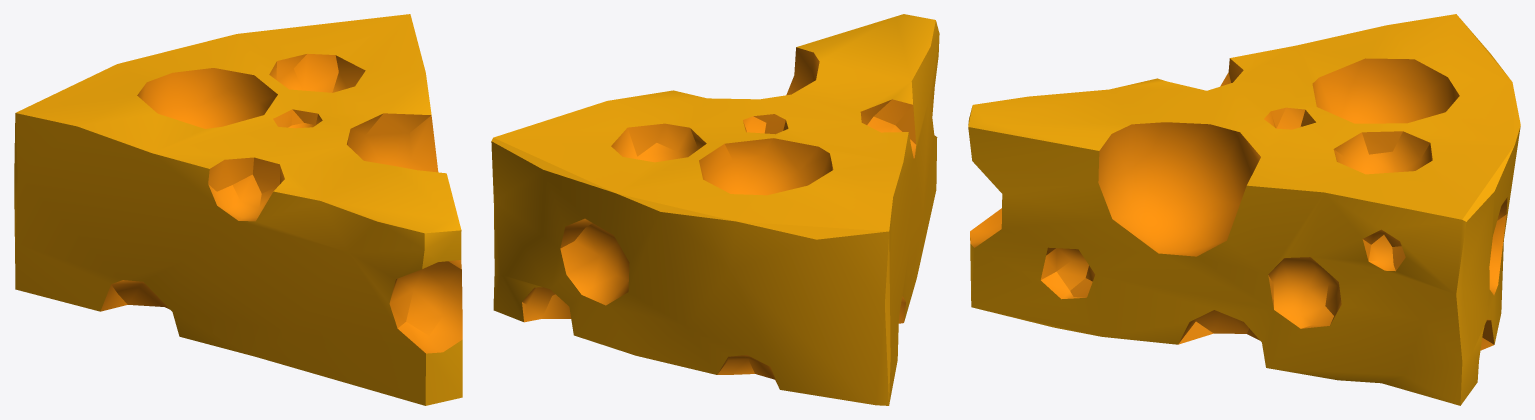
Rendered from Cheese.fbx.
The picture shows the model from 3 angles, left to right: view 1: azimuth 30°, elevation 25°; view 2: azimuth 150°, elevation 25°; view 3: azimuth 270°, elevation 25°; orthographic projection. The views are drawn at different scales.
Parts seen in each view (by area): view 1: LowPolyCheese; view 2: LowPolyCheese; view 3: LowPolyCheese.
Part boxes in pixels (x1,y1,x2,y2): LowPolyCheese: (14,14,462,405); LowPolyCheese: (491,14,939,405); LowPolyCheese: (968,14,1520,405).
Size of the model in its own units: 0.3635 by 0.1603 by 0.4098.
1 material, 1 textured.
